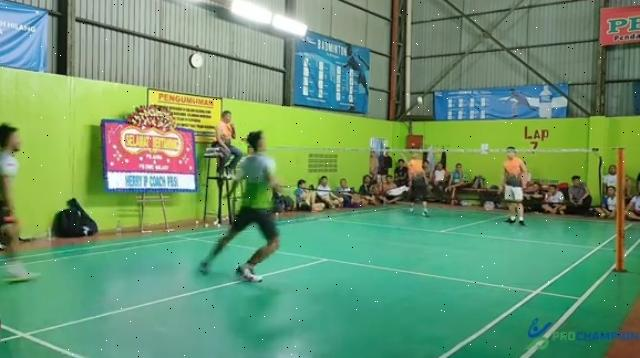Shuttlecock: (416, 94, 426, 106)
